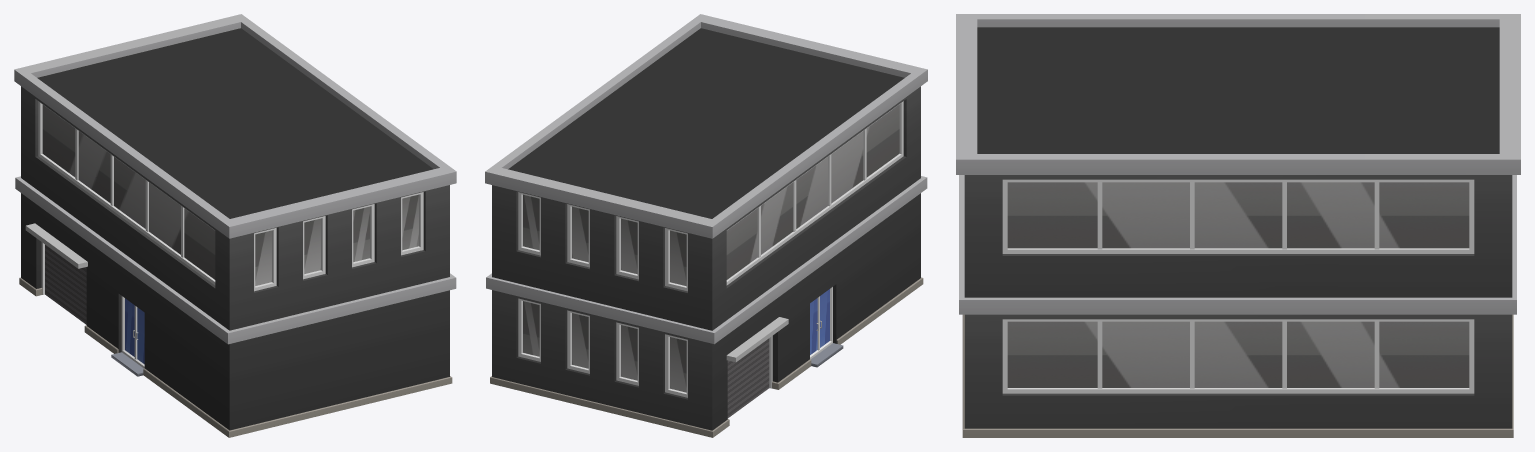
File: Building_Factory_3_D.fbx
3 views of the same model, side by side, from view 1: azimuth 30°, elevation 25°; view 2: azimuth 150°, elevation 25°; view 3: azimuth 270°, elevation 25° (orthographic). The views are drawn at different scales.
Visible parts, largest first — view 1: Building_Factory_3_D; view 2: Building_Factory_3_D; view 3: Building_Factory_3_D.
Boxes of the visible parts, x1,y1,x2,y2 form: Building_Factory_3_D: (14, 14, 456, 437); Building_Factory_3_D: (485, 14, 927, 437); Building_Factory_3_D: (956, 14, 1520, 437).
Bounding box in the file's own units: 901 × 785 × 1437.
